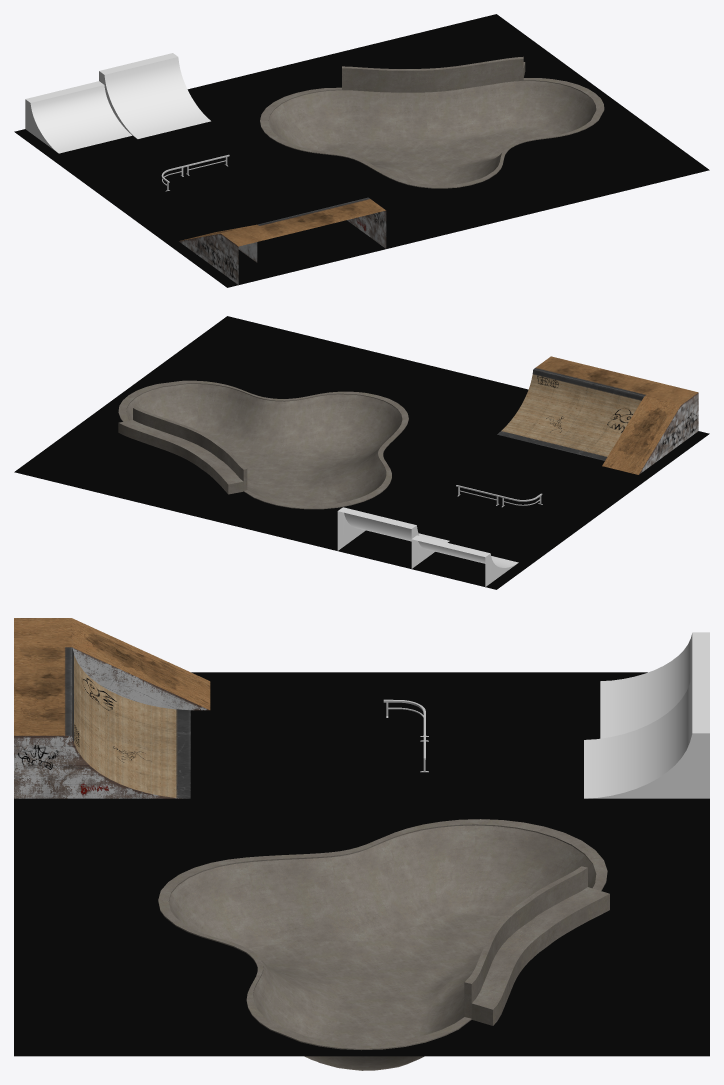
Rendered from Ramps_Export.fbx.
3 views of the same model, one above another, from view 1: azimuth 30°, elevation 25°; view 2: azimuth 150°, elevation 25°; view 3: azimuth 270°, elevation 25° (orthographic). The views are drawn at different scales.
Parts seen in each view (by area): view 1: Plane.013, Bowl, DoubleRamp, InclineRamp; view 2: Plane.013, Bowl, InclineRamp, DoubleRamp; view 3: Plane.013, Bowl, InclineRamp, DoubleRamp.
Boxes of the visible parts, x1=… form: Plane.013: x1=14, y1=14, x2=709, y2=287; Bowl: x1=260, y1=56, x2=604, y2=188; DoubleRamp: x1=25, y1=53, x2=210, y2=153; InclineRamp: x1=179, y1=197, x2=386, y2=284; Plane.013: x1=14, y1=316, x2=709, y2=589; Bowl: x1=118, y1=380, x2=408, y2=509; InclineRamp: x1=497, y1=356, x2=698, y2=474; DoubleRamp: x1=337, y1=507, x2=518, y2=586; Plane.013: x1=14, y1=672, x2=709, y2=1056; Bowl: x1=158, y1=819, x2=609, y2=1070; InclineRamp: x1=14, y1=618, x2=210, y2=798; DoubleRamp: x1=584, y1=632, x2=709, y2=798.
Size of the model in its own units: 3373 by 488 by 2583.
